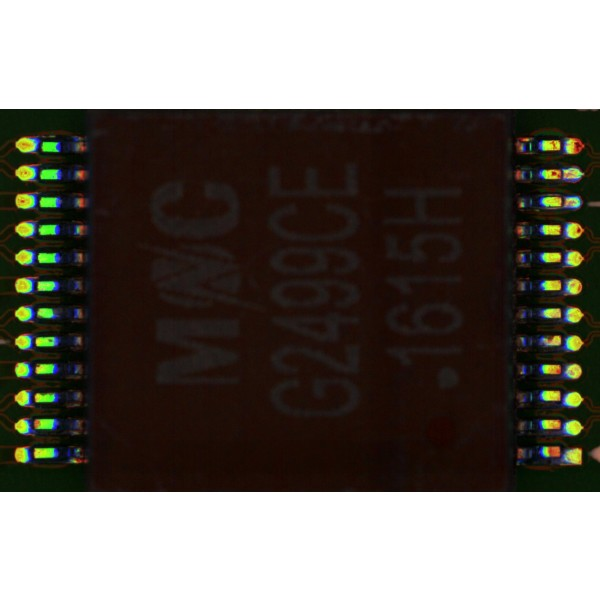Bad_podu: (551, 172, 573, 180), (552, 199, 575, 205)
